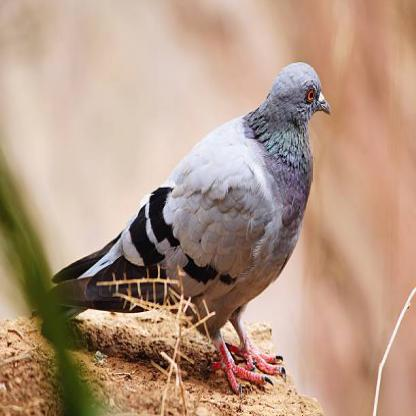Flying Rat: (45, 55, 331, 383)
